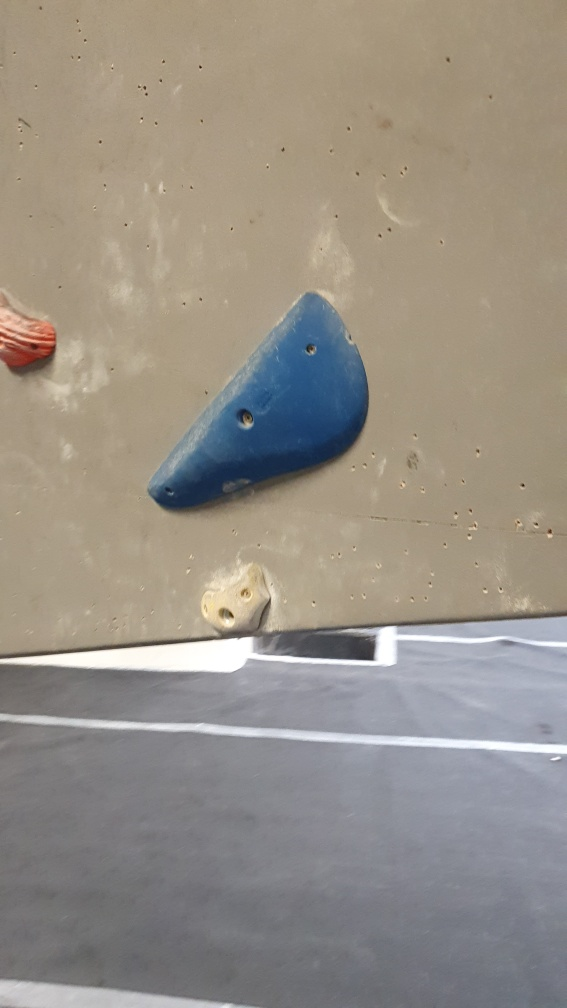Jug: (1, 295, 62, 380)
